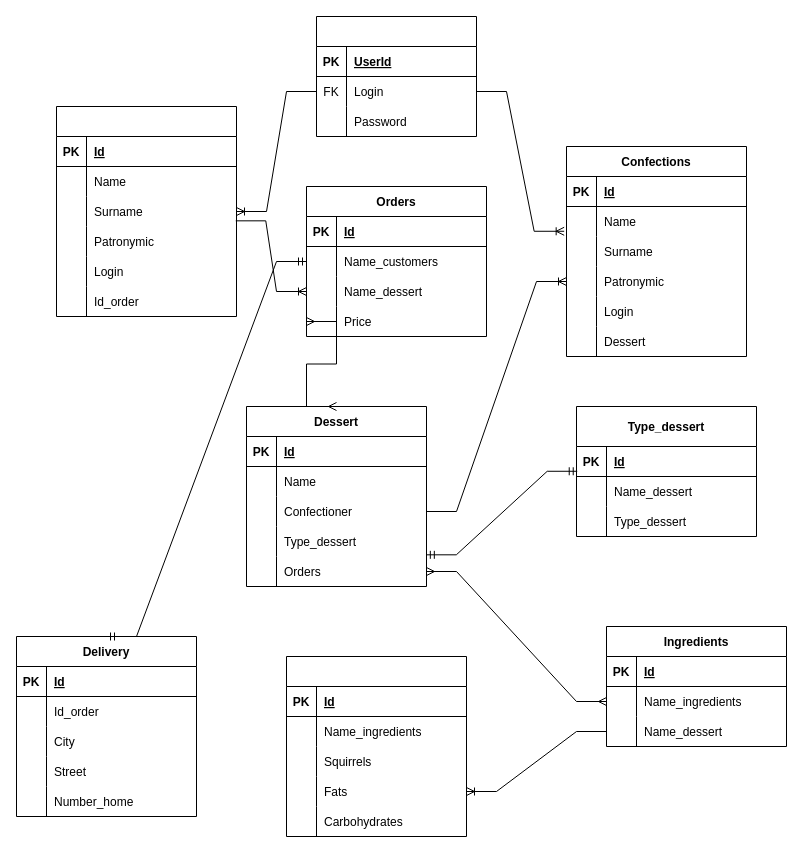
Image size: 803x853. Some labels were removed from this diagram. Here are the shapes that lost their labels. From the top down, the box of each, then its label:
(316, 16, 476, 136): Users
(56, 106, 236, 316): Customers
(286, 656, 466, 836): BJU
